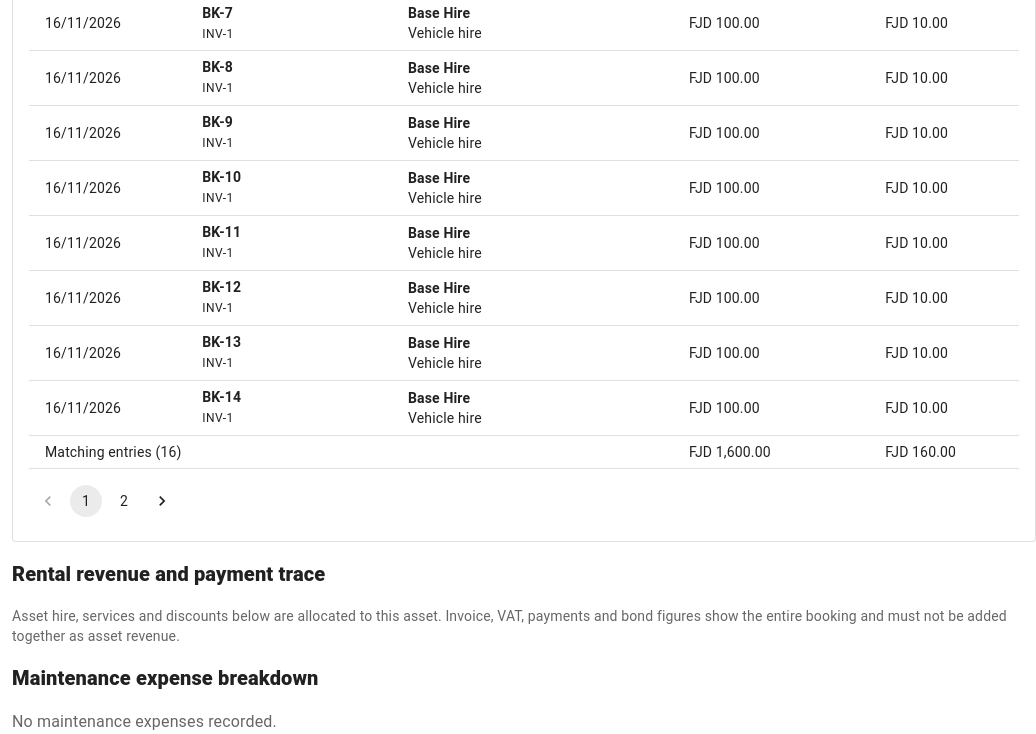
Scenario: filters and paginates asset ledger entries while keeping matching totals correct
(page scrolled)
Expected: the text "Matching entries (16)" is shown, [29,435,673,468]
Expected: the text "FJD 1,600.00" is shown, [673,435,869,468]
Click the button named "Go to page 2": (124, 501) [108,485,140,517]
(page scrolled)
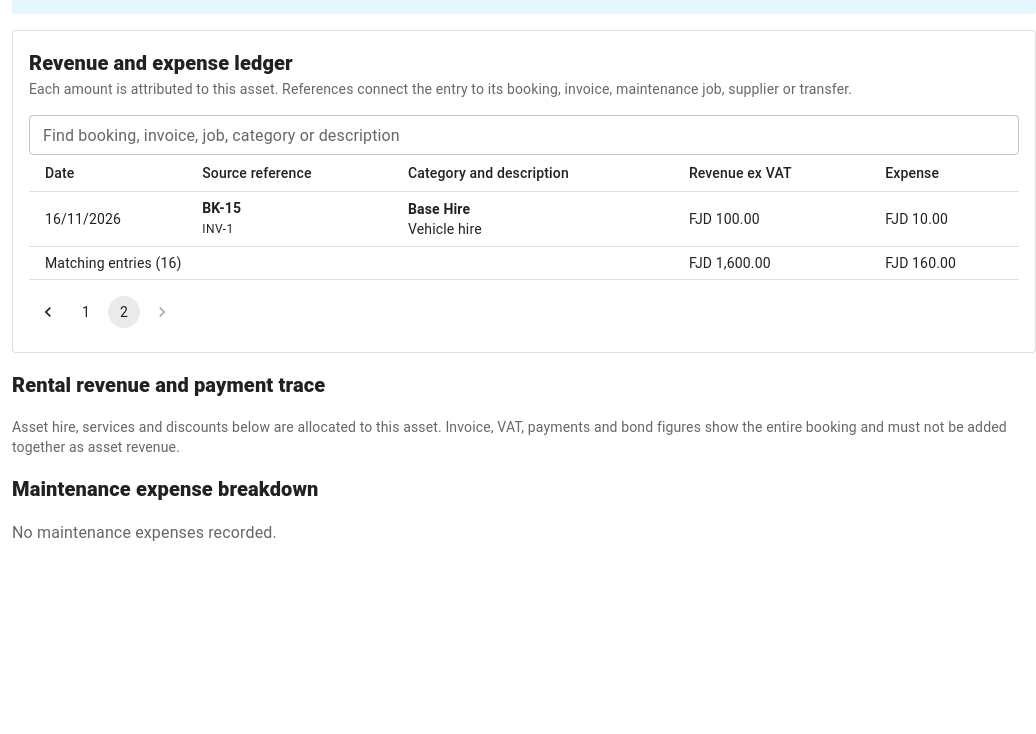
Expected: the text "BK-15" is shown, [202,200,241,216]
In the field labelled "Find booking, invoice, job, category or description": (524, 135) [29,115,1019,155], type "missing"
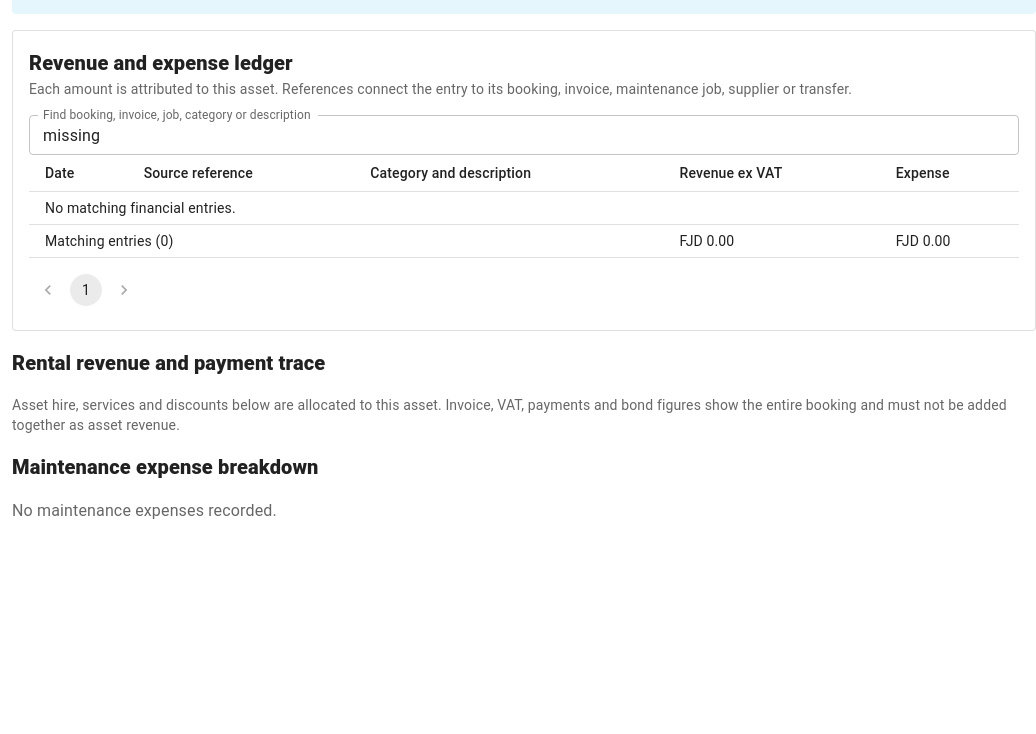
Expected: the text "No matching financial entries." is shown, [29,192,1019,224]
